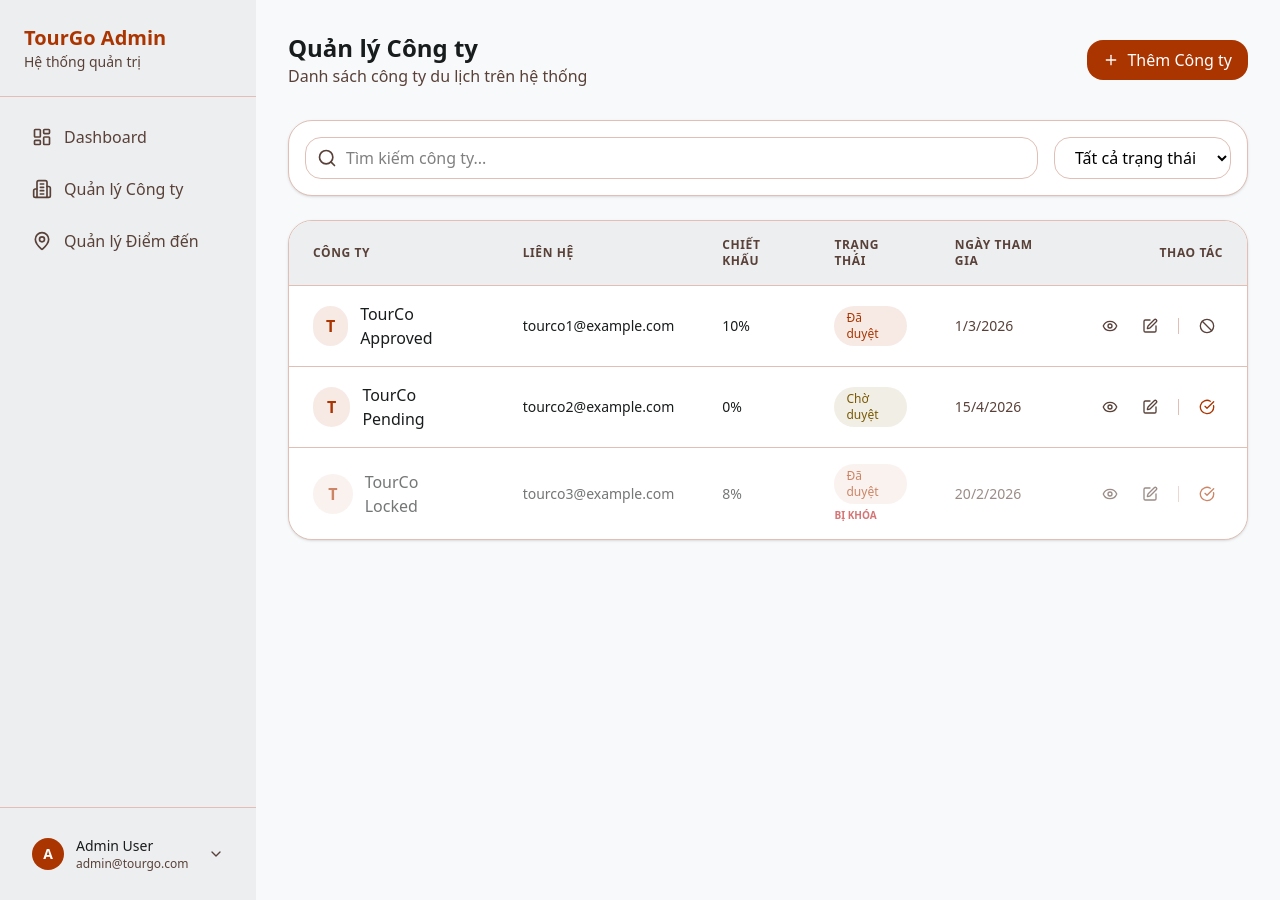
Test: AdminCompaniesPage › filters companies by search term
Expected: the text "TourCo Approved" is shown, [360,303,433,349]
Step 1. Type "Pending" into the field with placeholder "Tìm kiếm công ty..." → (672, 158), box [305,137,1038,179]
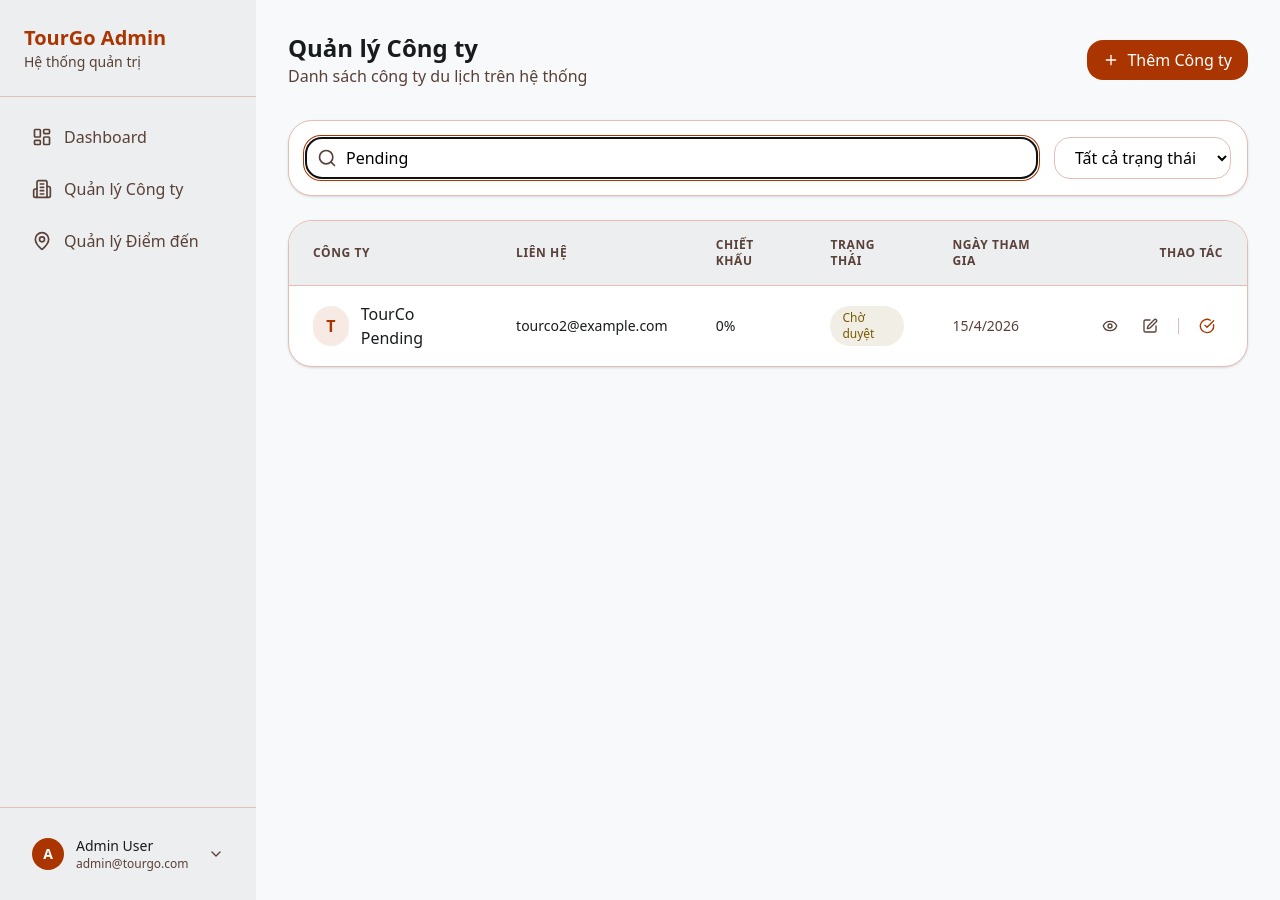
Expected: the text "TourCo Pending" is shown, [361,303,423,349]
Expected: the text "TourCo Approved" is gone
